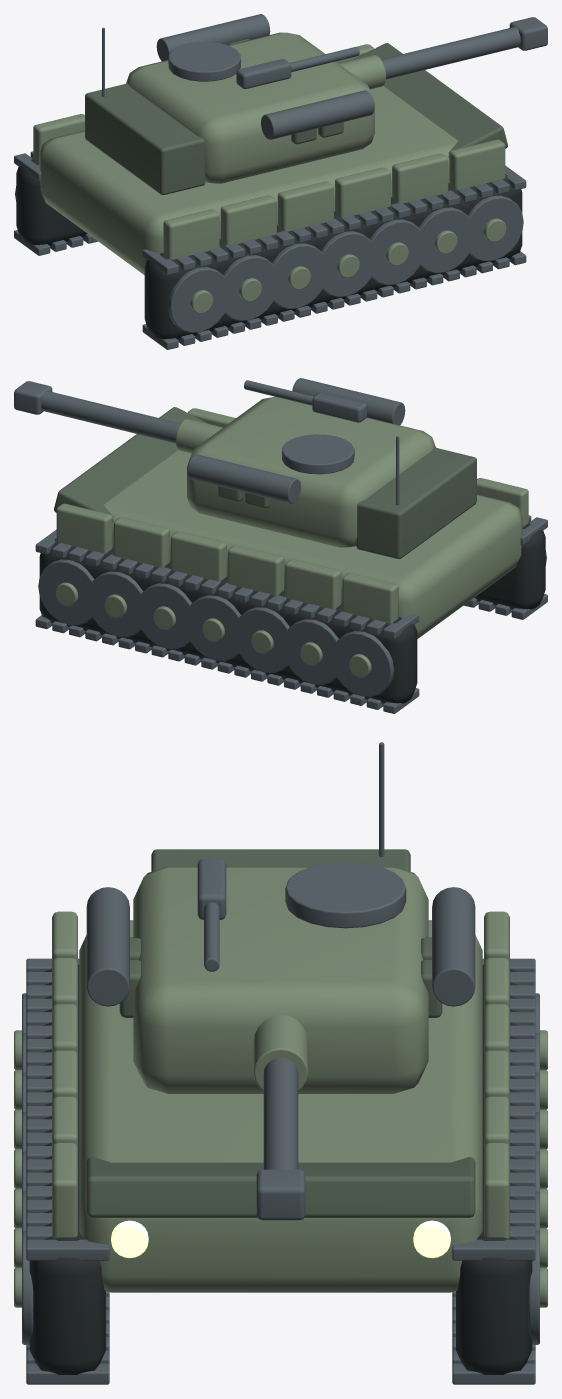
Rendered from tank.glb.
The picture shows the model from 3 angles, top to bottom: view 1: azimuth 30°, elevation 25°; view 2: azimuth 150°, elevation 25°; view 3: azimuth 270°, elevation 25°; orthographic projection. The views are drawn at different scales.
Parts seen in each view (by area): view 1: Armoured hull, Turret armour, Turret rear storage, Continuous track, Sloped glacis, Rocket tube, Cannon tube, Continuous track.001, Road wheel, Road wheel.006, Road wheel.002, Road wheel.001 (+24 smaller); view 2: Armoured hull, Turret armour, Turret rear storage, Continuous track.001, Sloped glacis, Rocket tube.001, Cannon tube, Continuous track, Road wheel.007, Road wheel.013, Road wheel.012, Road wheel.008 (+25 smaller); view 3: Armoured hull, Turret armour, Sloped glacis, Continuous track, Continuous track.001, Commander hatch, Rocket tube, Rocket tube.001, Turret rear storage, Cannon tube, Thermal sleeve, Muzzle brake (+22 smaller).
Boxes of the visible parts, box(x1,y1,x2,y2) form: Armoured hull: box(39, 86, 457, 274); Turret armour: box(126, 32, 374, 183); Turret rear storage: box(85, 83, 205, 194); Continuous track: box(144, 174, 522, 339); Sloped glacis: box(353, 43, 507, 157); Rocket tube: box(261, 90, 374, 139); Cannon tube: box(381, 27, 520, 79); Continuous track.001: box(16, 158, 87, 245); Road wheel: box(168, 267, 229, 332); Road wheel.006: box(465, 195, 523, 261); Road wheel.002: box(270, 243, 327, 308); Road wheel.001: box(221, 255, 278, 320); Armoured hull: box(104, 450, 522, 638); Turret armour: box(187, 396, 435, 547); Turret rear storage: box(356, 447, 476, 558); Continuous track.001: box(39, 538, 417, 703); Sloped glacis: box(54, 407, 208, 521); Rocket tube.001: box(187, 454, 300, 503); Cannon tube: box(41, 391, 180, 443); Continuous track: box(474, 522, 545, 609); Road wheel.007: box(332, 631, 393, 696); Road wheel.013: box(38, 559, 96, 625); Road wheel.012: box(87, 571, 145, 637); Road wheel.008: box(283, 619, 340, 684); Armoured hull: box(79, 920, 482, 1292); Turret armour: box(133, 867, 428, 1093); Sloped glacis: box(86, 1157, 475, 1217); Continuous track: box(29, 964, 105, 1374); Continuous track.001: box(456, 964, 532, 1374); Commander hatch: box(285, 862, 406, 928); Rocket tube: box(86, 887, 129, 1006); Rocket tube.001: box(432, 887, 475, 1006); Turret rear storage: box(151, 849, 410, 871); Cannon tube: box(263, 1057, 298, 1169); Thermal sleeve: box(253, 1014, 308, 1090); Muzzle brake: box(256, 1169, 305, 1220).
Size of the model in its own units: 6.08 by 2.97 by 3.71.
